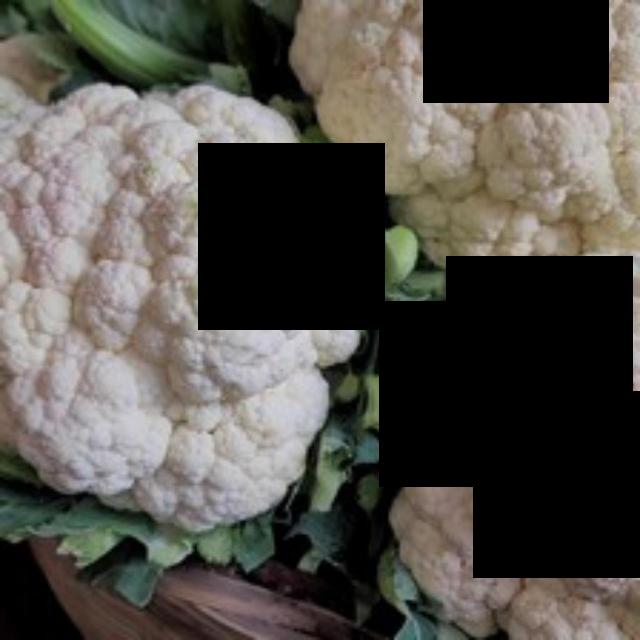cauliflower: (3, 56, 429, 547), (294, 0, 637, 300)
